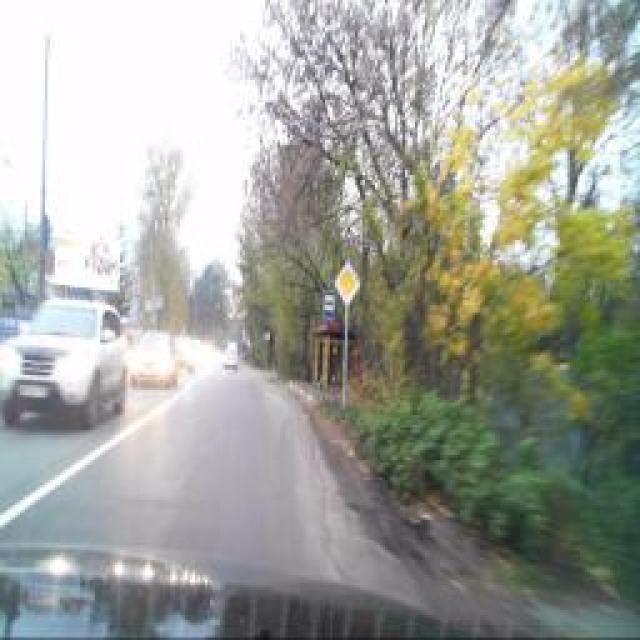sign: (334, 260, 361, 305)
